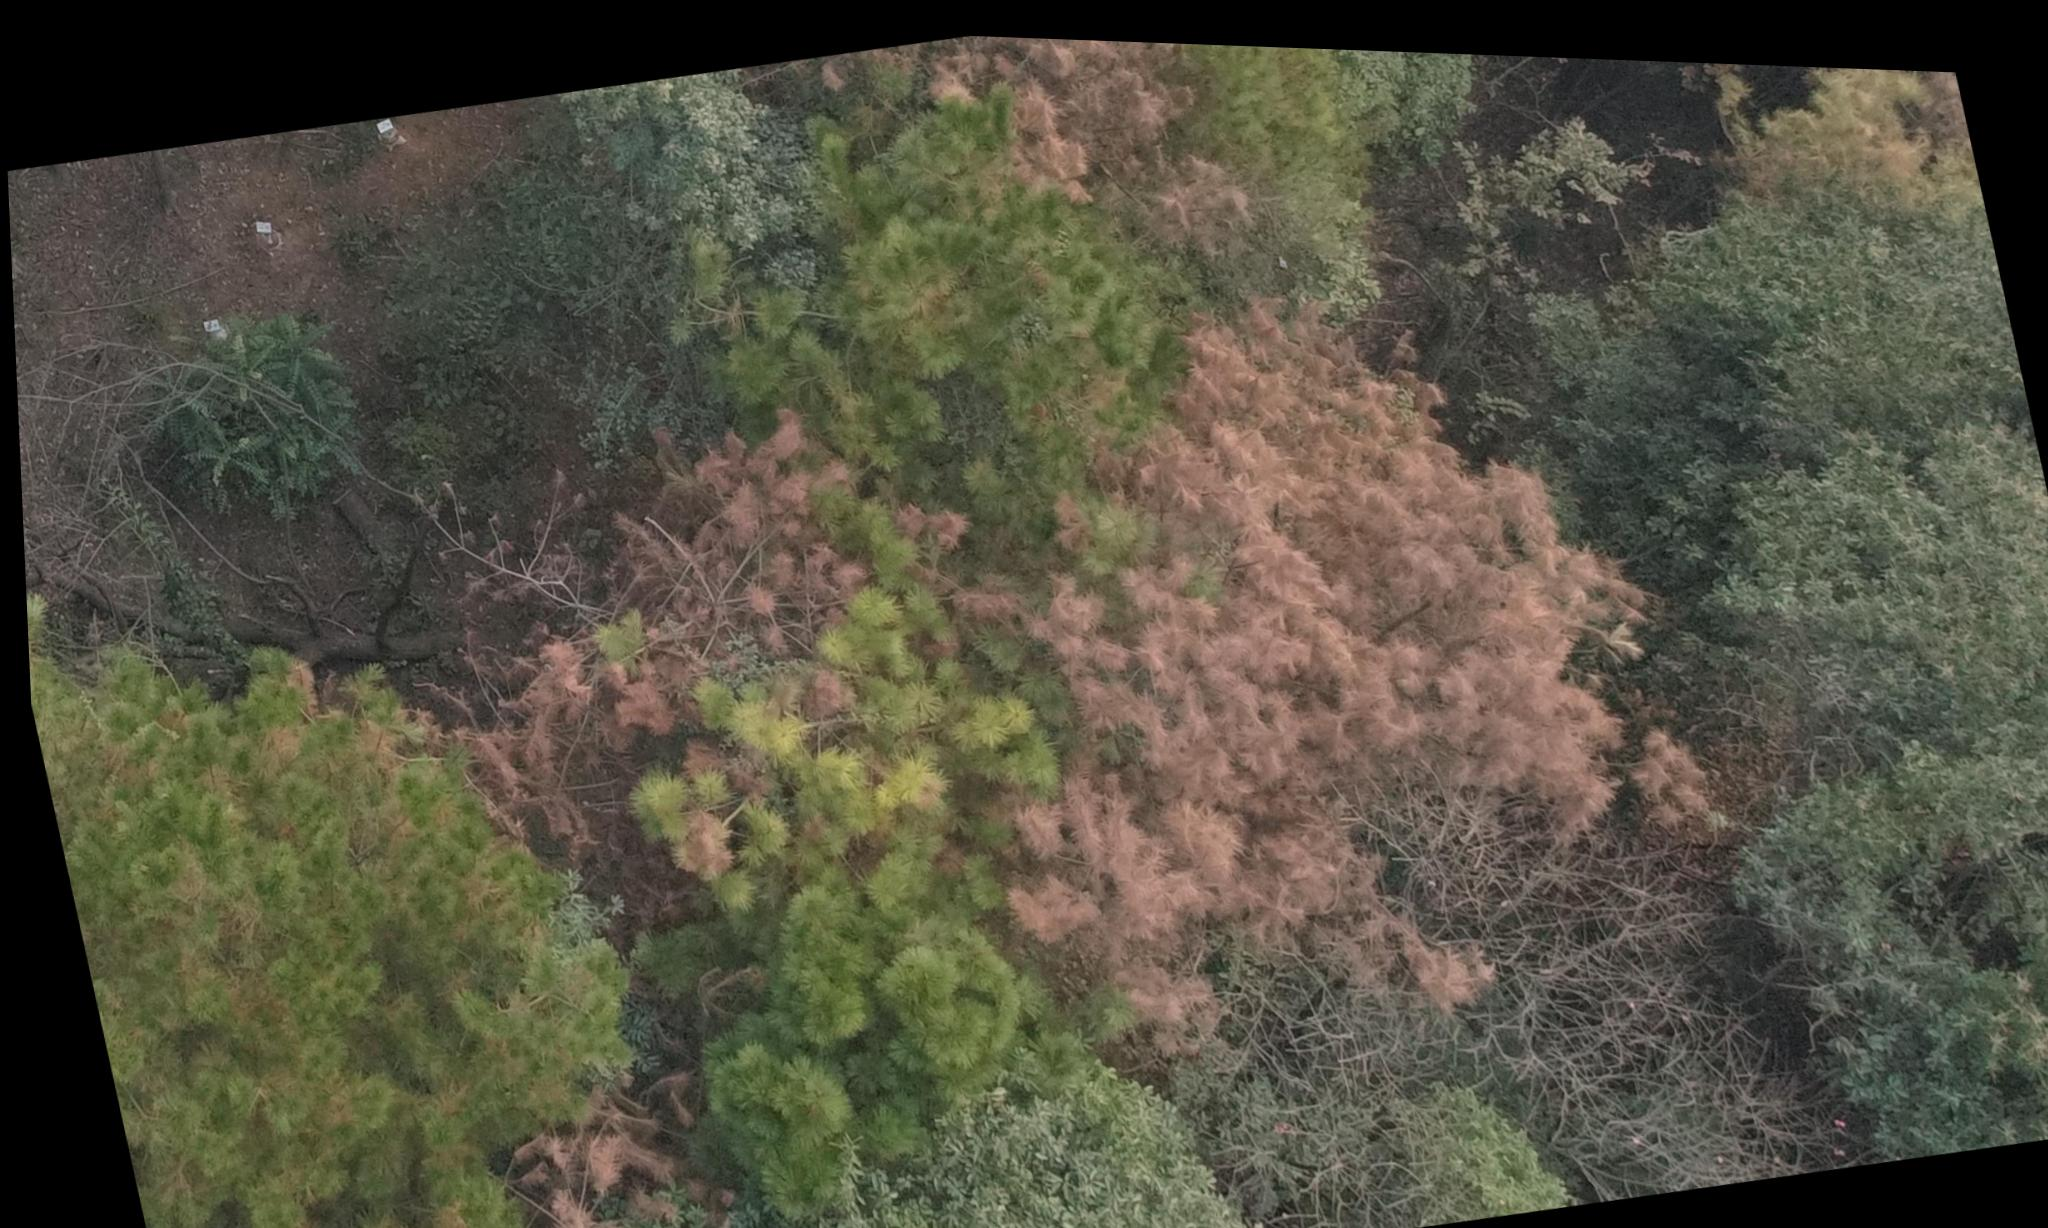heavy: (846, 235, 1763, 1102), (352, 383, 938, 977), (756, 22, 1291, 317), (363, 1051, 743, 1228)
light: (20, 566, 458, 1124)
